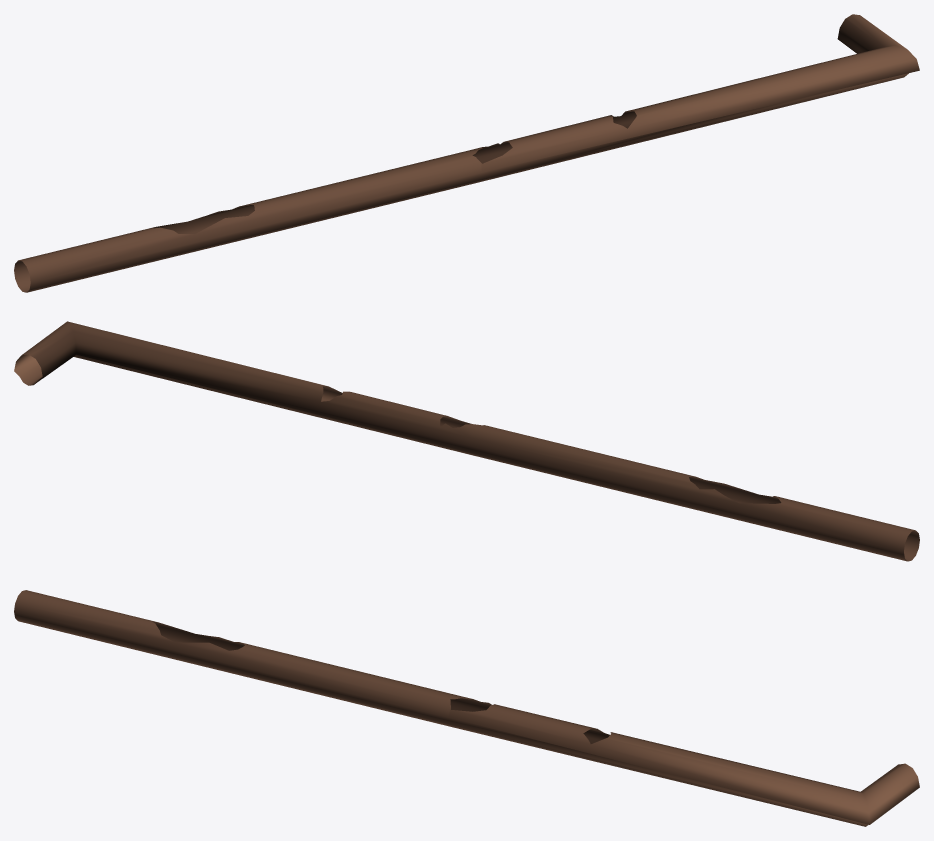
The model's file is Old pipes right.fbx.
3 renders of one model, top to bottom at view 1: azimuth 30°, elevation 25°; view 2: azimuth 150°, elevation 25°; view 3: azimuth 330°, elevation 25°, orthographic. The views are drawn at different scales.
Parts seen in each view (by area): view 1: BezierCurve.003; view 2: BezierCurve.003; view 3: BezierCurve.003.
Boxes of the visible parts, x1=… form: BezierCurve.003: x1=14, y1=14, x2=919, y2=292; BezierCurve.003: x1=14, y1=321, x2=919, y2=561; BezierCurve.003: x1=14, y1=590, x2=919, y2=826.
Size of the model in its own units: 53.94 by 5.49 by 1.92.
